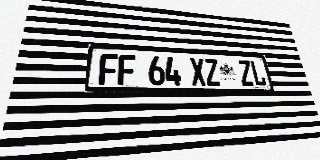4: (164, 56, 181, 86)
6: (148, 56, 165, 86)
F: (98, 53, 118, 85), (118, 54, 135, 85)
L: (249, 60, 267, 86)
X: (189, 58, 207, 86)
Z: (203, 58, 221, 86), (237, 60, 255, 86)
